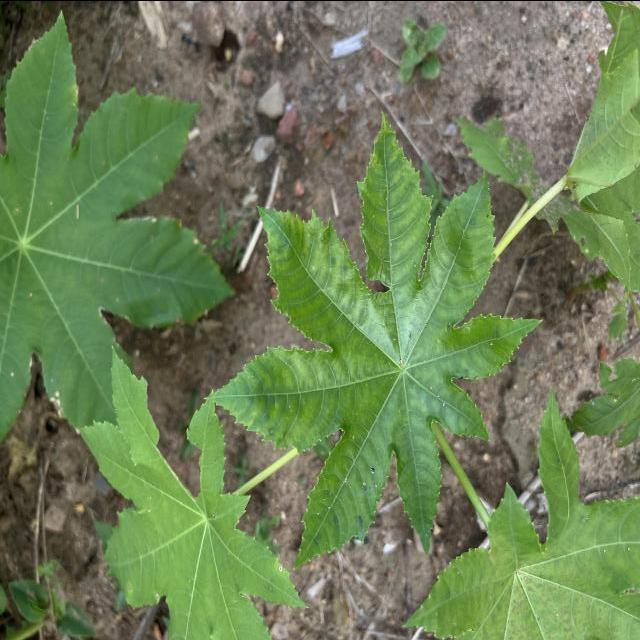Ricinus communis linn: (200, 104, 548, 573)
